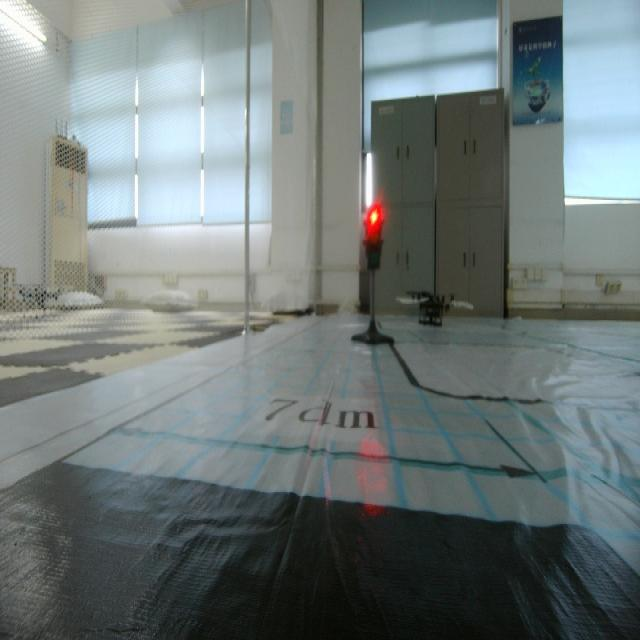red: (361, 200, 387, 281)
